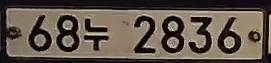2: (129, 13, 159, 55)
3: (187, 13, 216, 56)
6: (215, 15, 245, 57), (25, 13, 54, 55)
8: (159, 12, 188, 56), (55, 13, 82, 52)
누: (81, 14, 112, 54)
